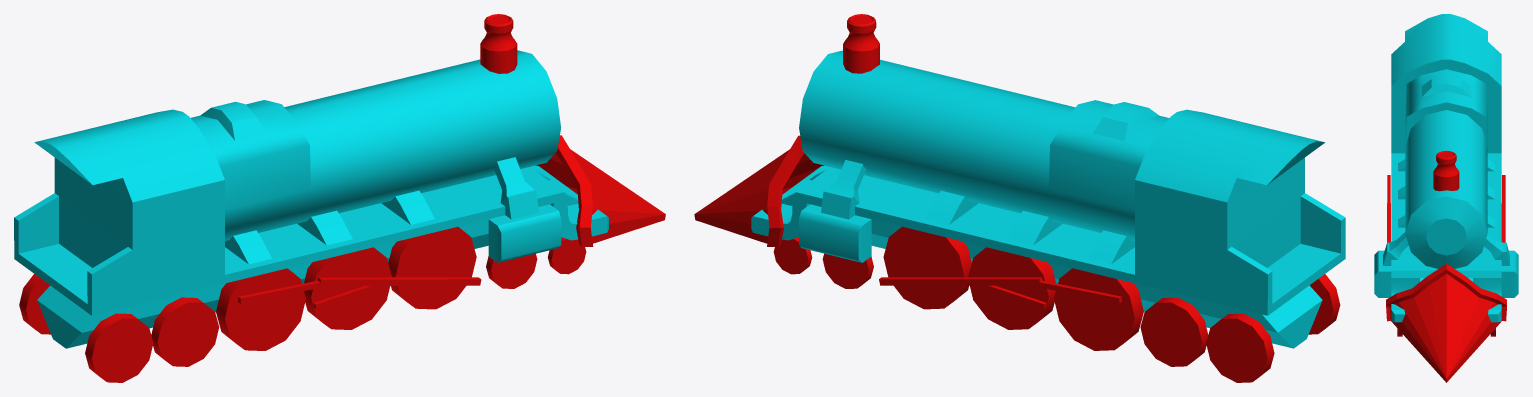
The model's file is TrainLocomotiveMesh.fbx.
3 renders of one model, left to right at view 1: azimuth 30°, elevation 25°; view 2: azimuth 150°, elevation 25°; view 3: azimuth 270°, elevation 25°, orthographic. The views are drawn at different scales.
Visible parts, largest first — view 1: TrainBase, TrainCylinder, Cowcatcher, TrainWheels20, TrainWheels, TrainWheels19, TrainWheels14, TrainWheels13, Smokestack, WheelGear3, TrainWheels3, TrainWheels18 (+2 smaller); view 2: TrainBase, TrainCylinder, Cowcatcher, TrainWheels21, TrainWheels23, TrainWheels22, TrainWheels18, TrainWheels17, Smokestack, WheelGear, TrainWheels16, TrainWheels14 (+2 smaller); view 3: TrainBase, TrainCylinder, Cowcatcher, Smokestack, WheelGear, WheelGear3.
Boxes of the visible parts, bbox=[...] form: TrainBase: bbox=[14, 109, 608, 348]; TrainCylinder: bbox=[191, 50, 560, 240]; Cowcatcher: bbox=[535, 135, 665, 246]; TrainWheels20: bbox=[216, 268, 305, 350]; TrainWheels: bbox=[388, 226, 476, 309]; TrainWheels19: bbox=[304, 247, 391, 329]; TrainWheels14: bbox=[85, 313, 153, 382]; TrainWheels13: bbox=[151, 297, 219, 366]; Smokestack: bbox=[480, 14, 517, 73]; WheelGear3: bbox=[317, 277, 481, 285]; TrainWheels3: bbox=[486, 253, 537, 288]; TrainWheels18: bbox=[19, 274, 50, 334]; TrainBase: bbox=[751, 109, 1345, 348]; TrainCylinder: bbox=[799, 50, 1168, 241]; Cowcatcher: bbox=[694, 135, 823, 246]; TrainWheels21: bbox=[1054, 268, 1143, 350]; TrainWheels23: bbox=[883, 226, 971, 309]; TrainWheels22: bbox=[968, 247, 1055, 329]; TrainWheels18: bbox=[1206, 313, 1274, 382]; TrainWheels17: bbox=[1140, 297, 1208, 366]; Smokestack: bbox=[843, 14, 879, 73]; WheelGear: bbox=[879, 277, 1042, 285]; TrainWheels16: bbox=[822, 253, 873, 288]; TrainWheels14: bbox=[1308, 274, 1340, 334]; TrainBase: bbox=[1374, 14, 1518, 322]; TrainCylinder: bbox=[1405, 69, 1487, 268]; Cowcatcher: bbox=[1386, 263, 1506, 382]; Smokestack: bbox=[1433, 150, 1459, 191]; WheelGear: bbox=[1501, 203, 1505, 242]; WheelGear3: bbox=[1387, 203, 1390, 242].
Bounding box in the file's own units: 1.17 × 0.442 × 0.3379.
